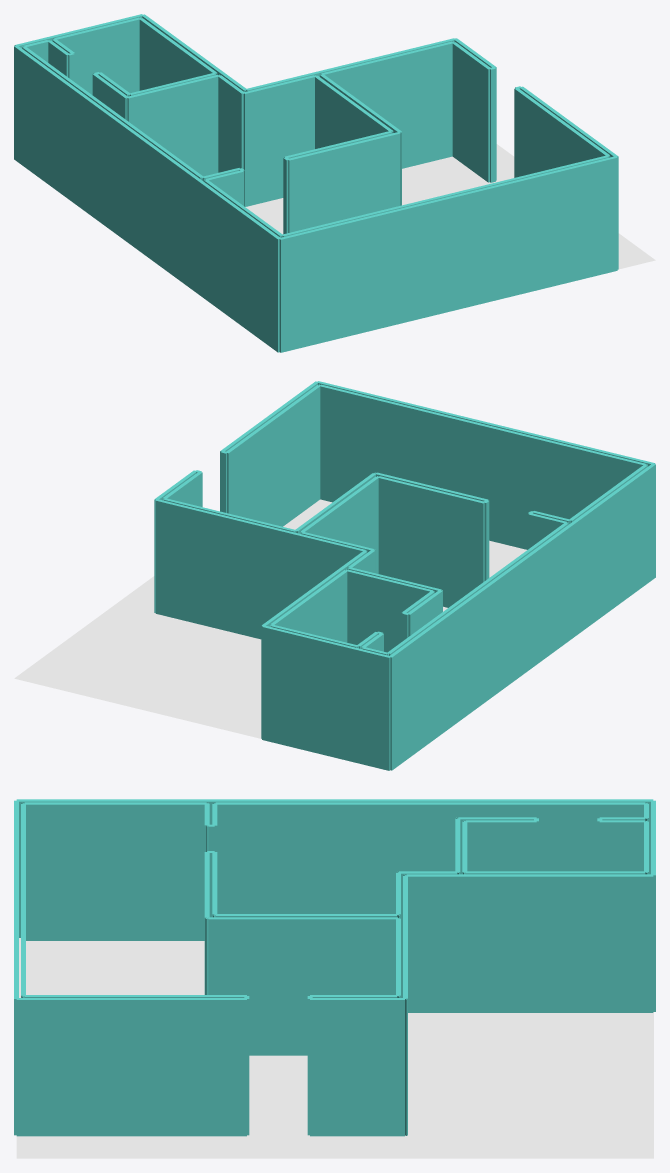
File: 3d_updated.fbx
3 renders of one model, top to bottom at view 1: azimuth 30°, elevation 25°; view 2: azimuth 150°, elevation 25°; view 3: azimuth 270°, elevation 25°, orthographic. The views are drawn at different scales.
Parts seen in each view (by area): view 1: 3D_model_output, 3D_model_output.001; view 2: 3D_model_output, 3D_model_output.001; view 3: 3D_model_output, 3D_model_output.001.
Boxes of the visible parts, x1=… form: 3D_model_output: x1=14, y1=14, x2=618, y2=352; 3D_model_output.001: x1=245, y1=144, x2=655, y2=269; 3D_model_output: x1=154, y1=381, x2=655, y2=770; 3D_model_output.001: x1=14, y1=499, x2=526, y2=738; 3D_model_output: x1=14, y1=799, x2=655, y2=1136; 3D_model_output.001: x1=16, y1=938, x2=653, y2=1158.
Size of the model in its own units: 15735 by 4500 by 19185.
